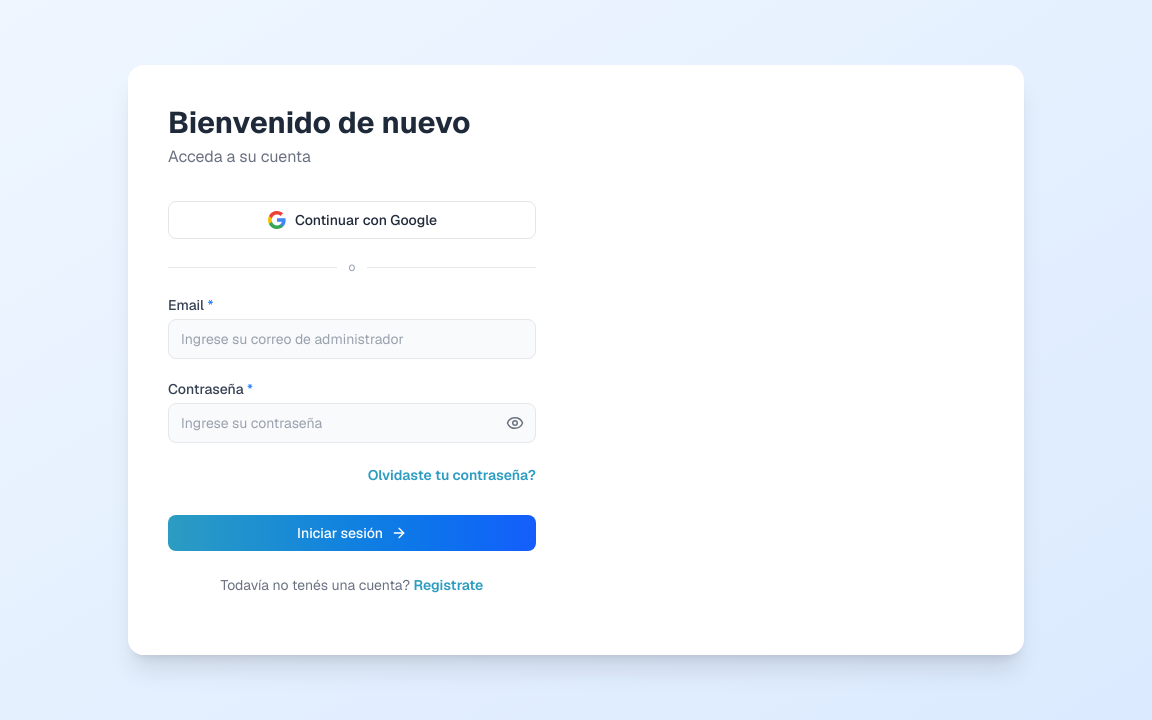
it: LoginPage › validates required email and password fields
The width and height of the screenshot is (1152, 720).
Click the button "Iniciar sesión" at (352, 533), box [168,515,536,551]
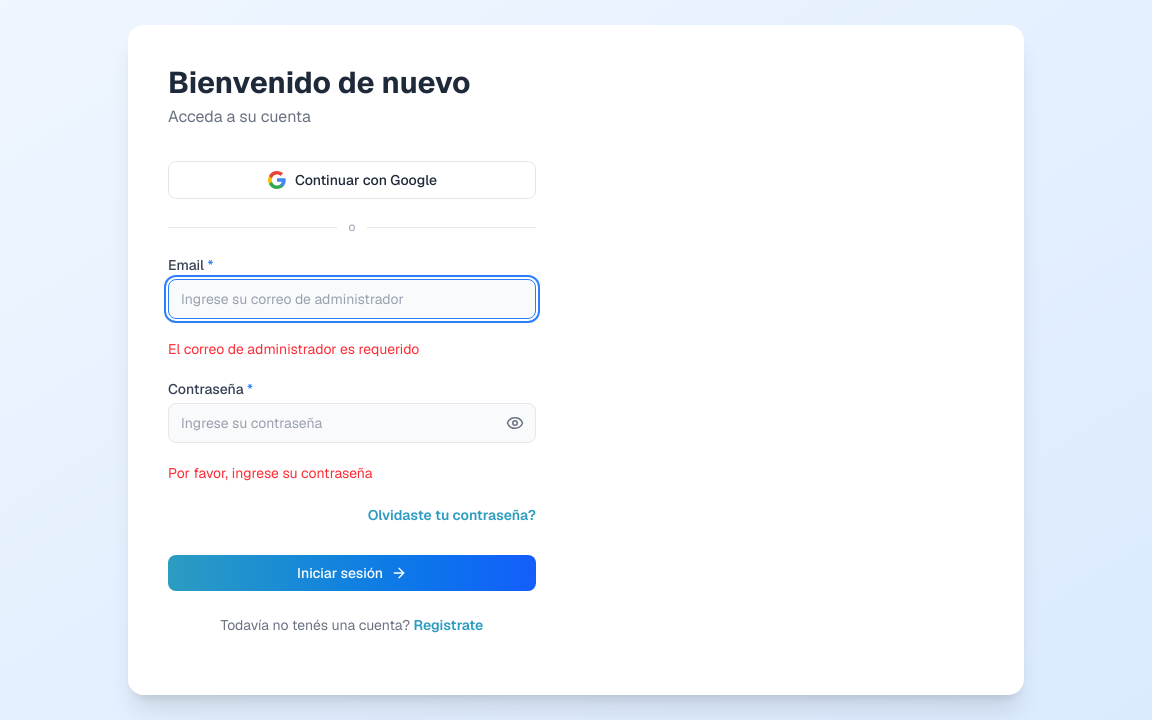
Result: the text "El correo de administrador es requerido" is shown at [168,340,419,358]
Result: the text "Por favor, ingrese su contraseña" is shown at [168,464,373,482]
